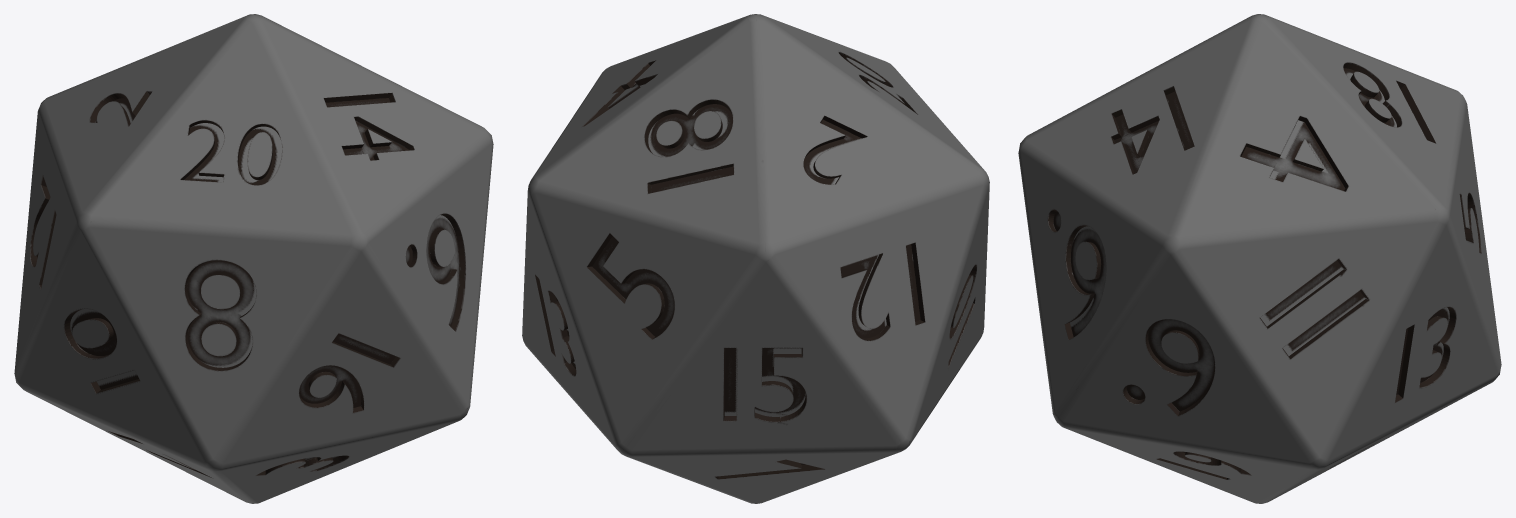
File: Dice_textured.gltf
The picture shows the model from 3 angles, left to right: view 1: azimuth 30°, elevation 25°; view 2: azimuth 150°, elevation 25°; view 3: azimuth 270°, elevation 25°; orthographic projection.
Parts seen in each view (by area): view 1: Icosphere; view 2: Icosphere; view 3: Icosphere.
Part boxes in pixels (x1,y1,x2,y2): Icosphere: [14, 14, 493, 503]; Icosphere: [522, 14, 989, 503]; Icosphere: [1018, 14, 1501, 503].
Size of the model in its own units: 3.94 by 4.5 by 4.04.
Materials: 1 (1 with a texture image).
